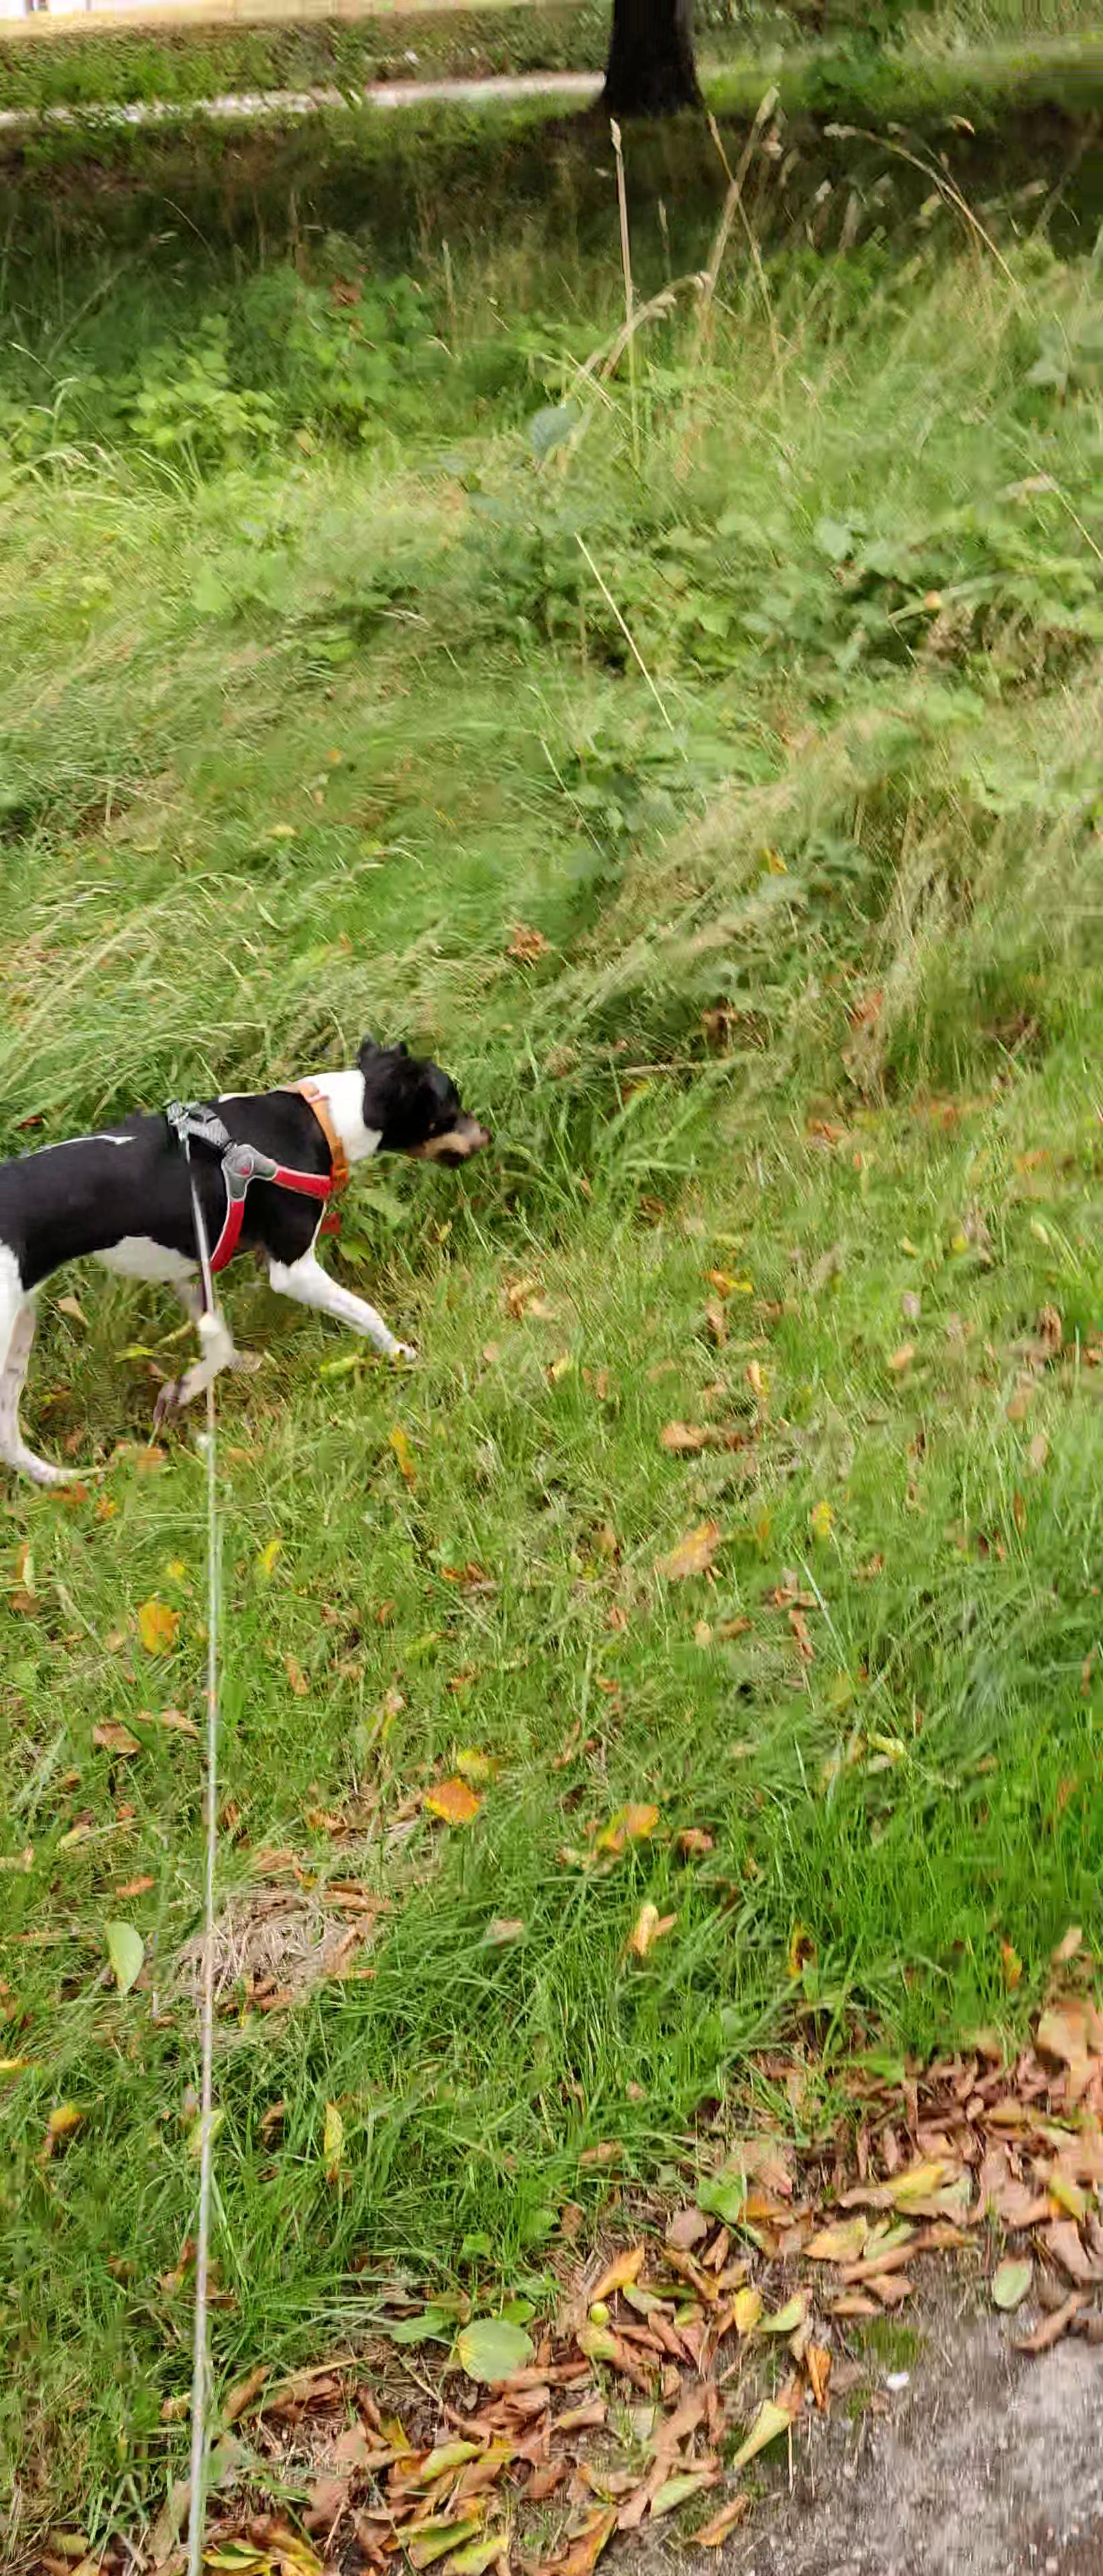Dog: (0, 1032, 506, 1490)
